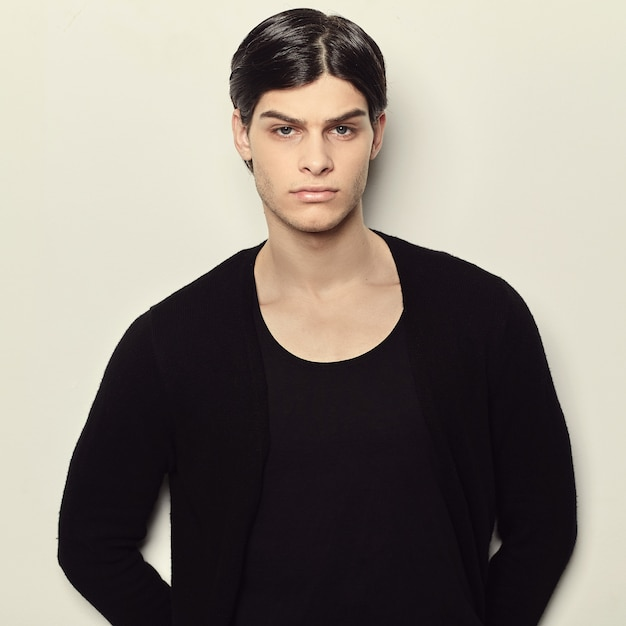teen: (234, 16, 404, 229)
